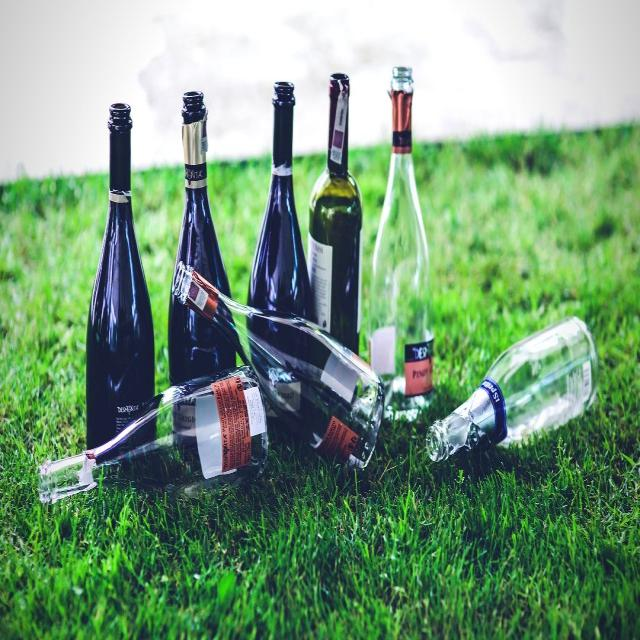Vidrio: (78, 98, 160, 465), (170, 86, 245, 452), (368, 55, 434, 425), (252, 68, 314, 447), (321, 52, 370, 455)
